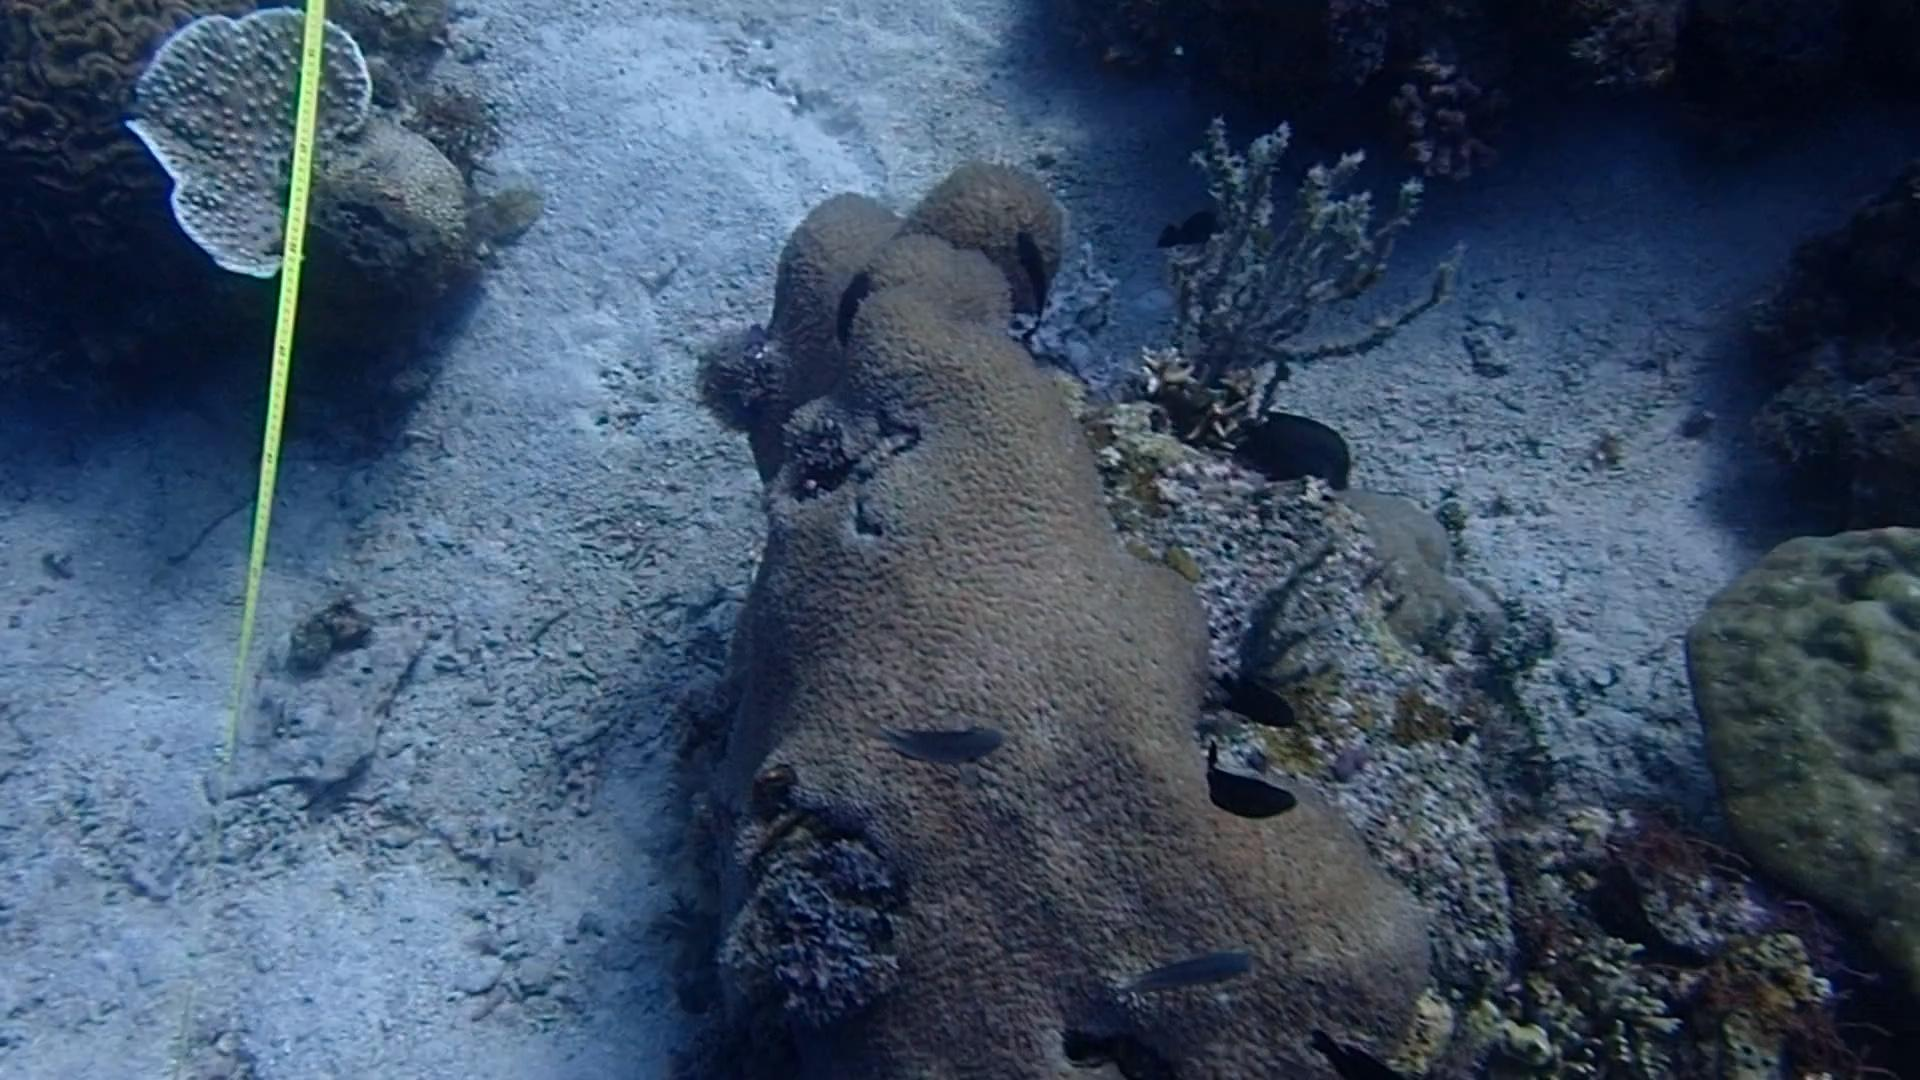Dark Fish: (1180, 740, 1309, 833), (1212, 662, 1311, 728), (1156, 189, 1230, 265), (815, 260, 881, 336), (1004, 225, 1064, 302)
Light Fish: (1106, 932, 1263, 1018), (889, 713, 1005, 773)
